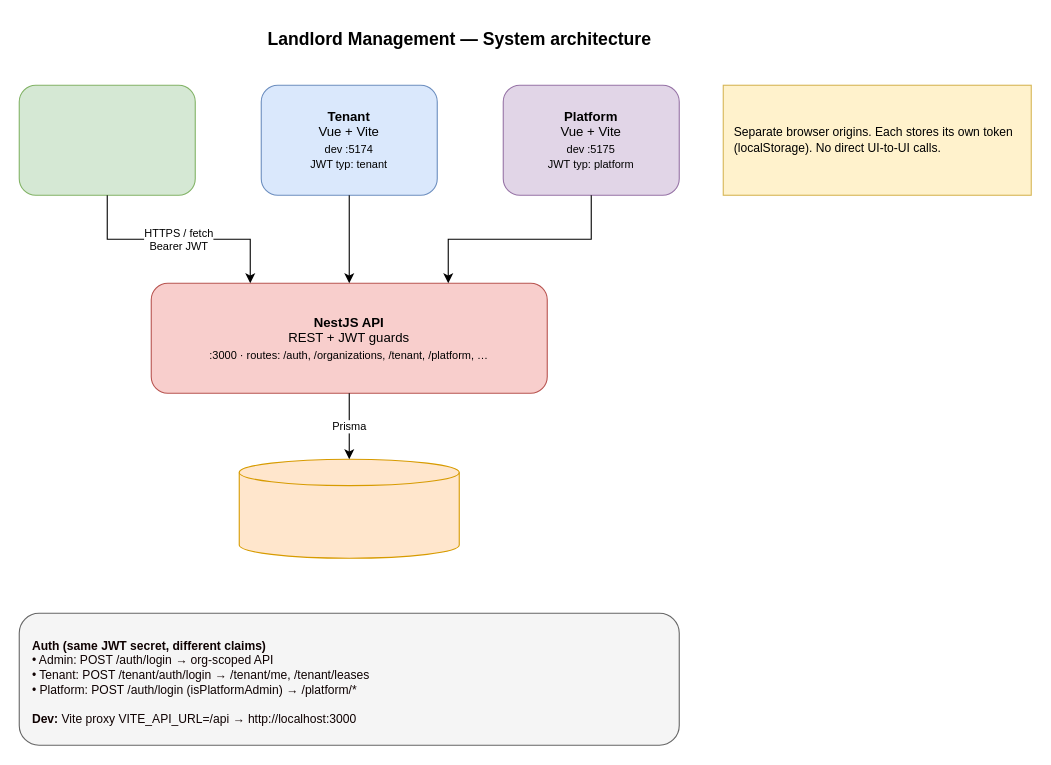
The diagram is 1051 pixels wide and 765 high, and some of its shapes have lost their labels. Here are the shapes that lost their labels. From the top down, the centre of each, then its label:
point 106,139: Admin Vue + Vite dev :5173 JWT typ: staff
point 348,508: PostgreSQL Prisma — orgs, users, renters, leases, …
